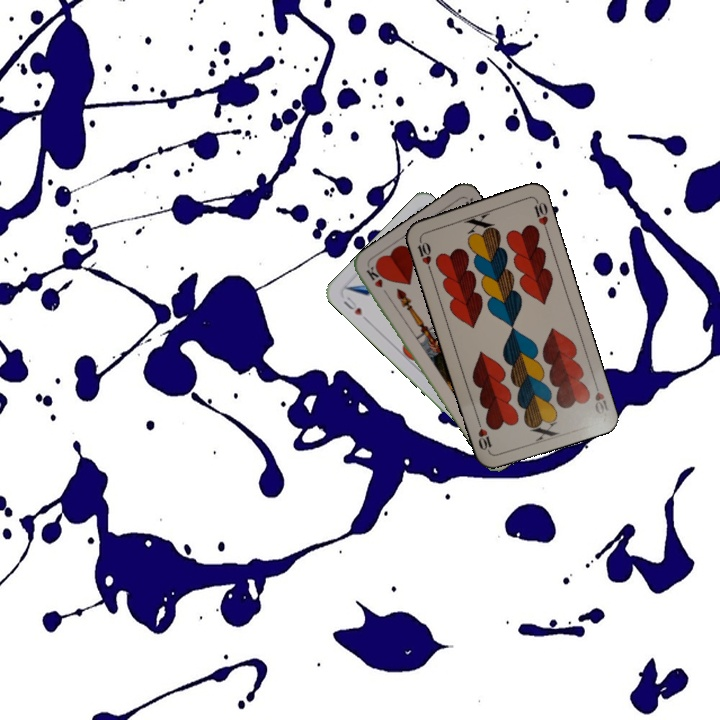H10: (413, 234, 434, 274), (590, 377, 611, 417)
HK: (362, 262, 392, 300)
HU: (339, 293, 370, 324)
